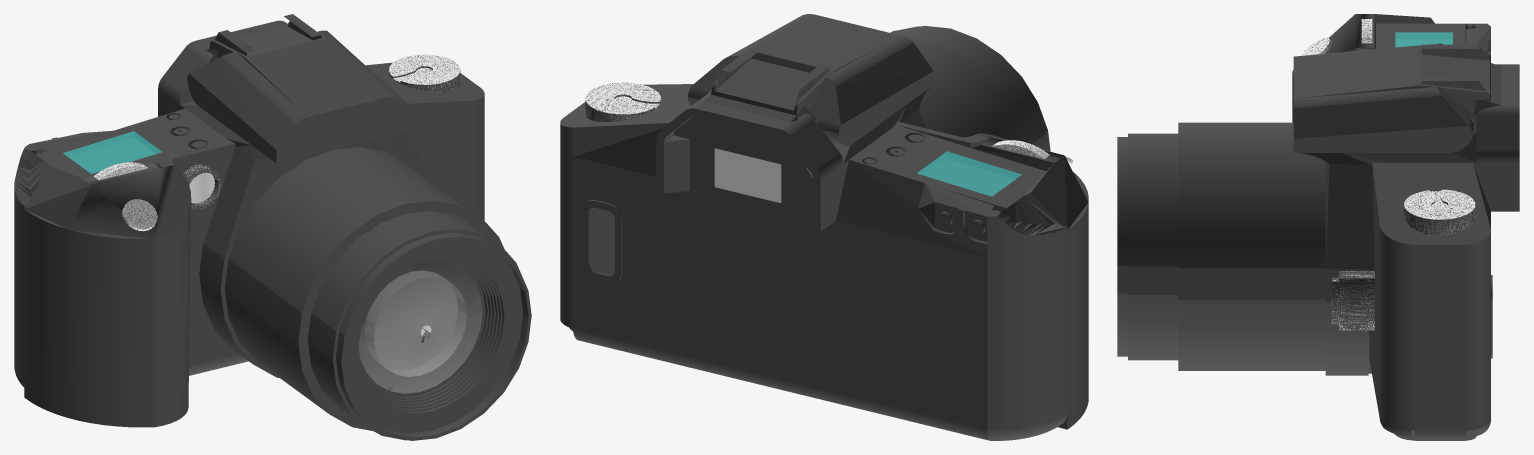
Rendered from model_align.obj.
The picture shows the model from 3 angles, left to right: view 1: azimuth 30°, elevation 25°; view 2: azimuth 150°, elevation 25°; view 3: azimuth 270°, elevation 25°; orthographic projection. The views are drawn at different scales.
Parts seen in each view (by area): view 1: mesh2_mesh2-geometry, mesh1_mesh1-geometry, mesh43_mesh43-geometry, mesh46_mesh46-geometry, mesh49_mesh49-geometry, mesh45_mesh45-geometry, mesh44_mesh44-geometry; view 2: mesh2_mesh2-geometry, mesh1_mesh1-geometry, mesh47_mesh47-geometry, mesh46_mesh46-geometry, mesh44_mesh44-geometry; view 3: mesh2_mesh2-geometry, mesh1_mesh1-geometry, mesh46_mesh46-geometry, mesh48_mesh48-geometry.
Boxes of the visible parts, x1,y1,x2,y2 form: mesh2_mesh2-geometry: [14, 14, 484, 427]; mesh1_mesh1-geometry: [199, 147, 531, 440]; mesh43_mesh43-geometry: [365, 270, 466, 376]; mesh46_mesh46-geometry: [389, 54, 460, 91]; mesh49_mesh49-geometry: [183, 164, 221, 209]; mesh45_mesh45-geometry: [122, 199, 157, 231]; mesh44_mesh44-geometry: [93, 162, 147, 180]; mesh2_mesh2-geometry: [560, 14, 1088, 440]; mesh1_mesh1-geometry: [890, 26, 1050, 151]; mesh47_mesh47-geometry: [714, 148, 781, 203]; mesh46_mesh46-geometry: [585, 82, 660, 121]; mesh44_mesh44-geometry: [992, 140, 1049, 158]; mesh2_mesh2-geometry: [1292, 14, 1519, 440]; mesh1_mesh1-geometry: [1117, 122, 1368, 375]; mesh46_mesh46-geometry: [1404, 189, 1475, 235]; mesh48_mesh48-geometry: [1331, 271, 1374, 330].
Bounding box in the file's own units: 0.1034 × 0.0655 × 0.0793.
